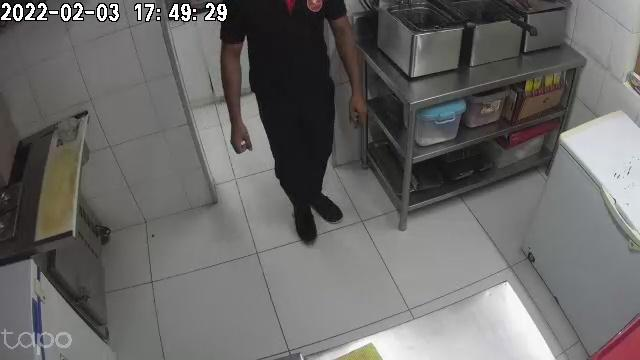no_gloves: (227, 109, 252, 153), (349, 81, 367, 127)
